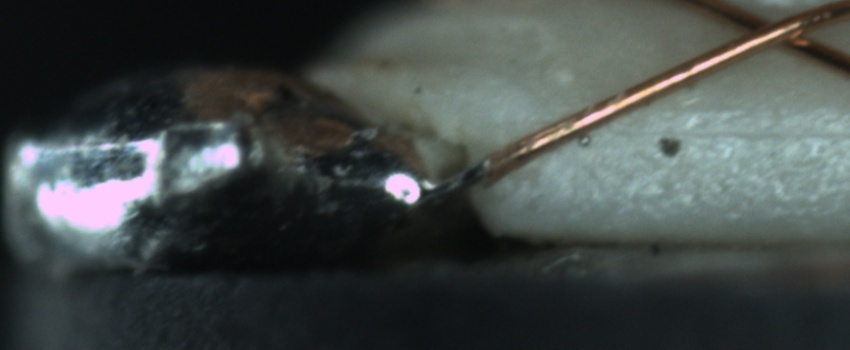CL: (712, 2, 836, 58)
DL: (557, 98, 850, 162)
TS: (402, 155, 492, 208)
